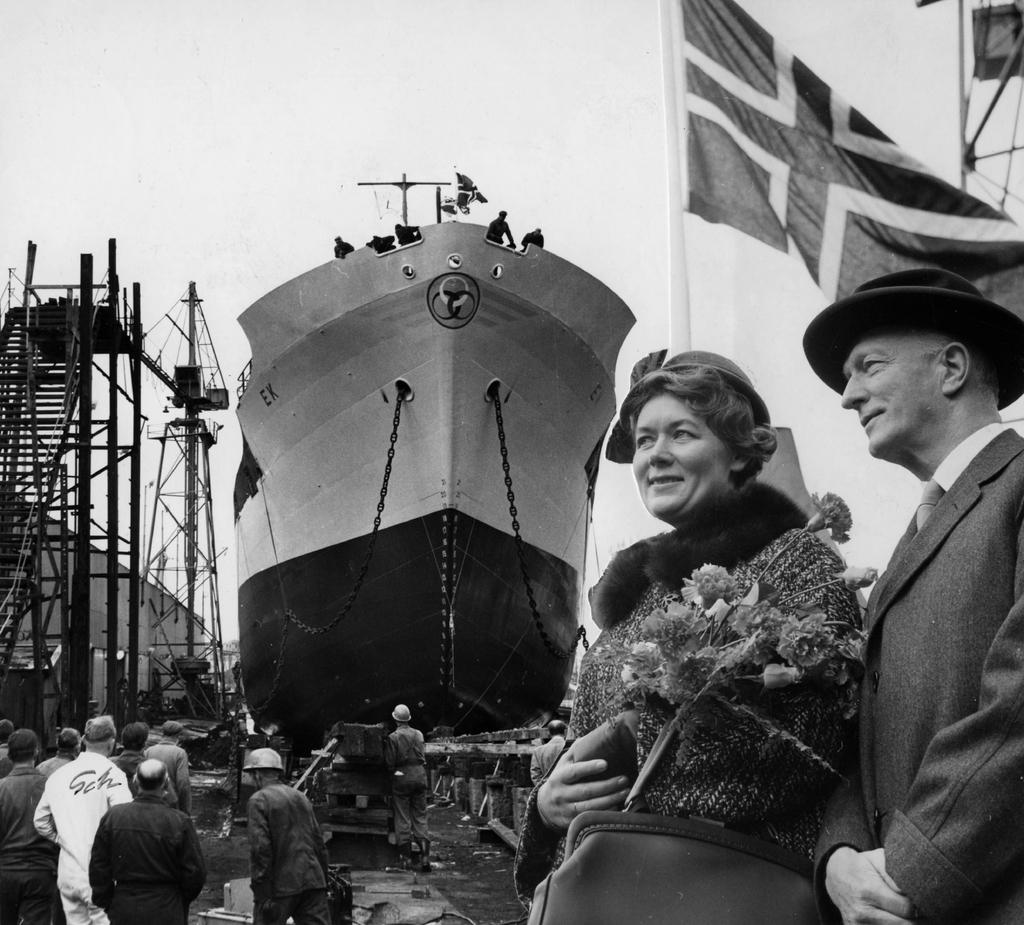Hat: (818, 267, 1010, 389), (604, 347, 766, 465), (395, 704, 411, 724)
